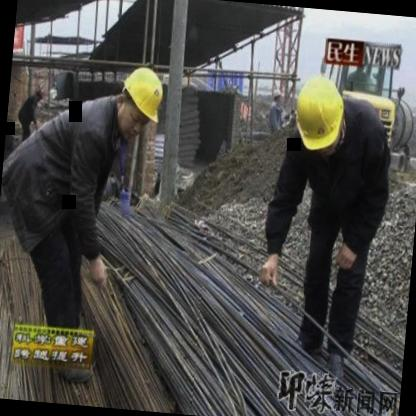helmet: (286, 68, 352, 164), (112, 57, 172, 144)
